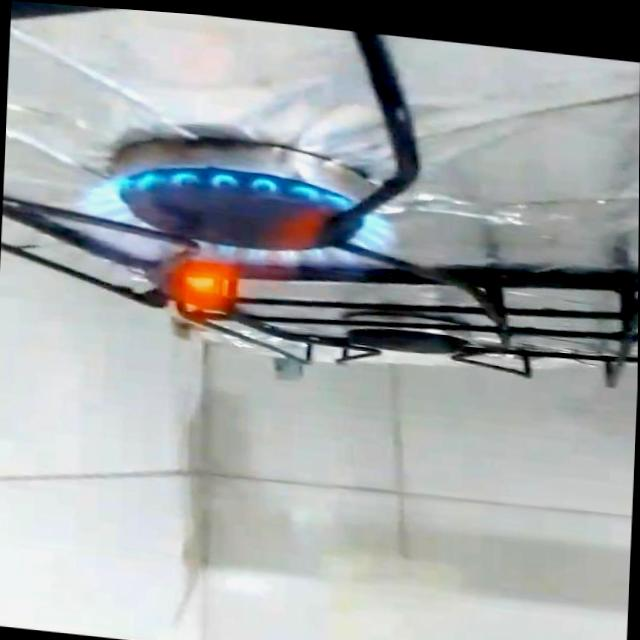Fire: (59, 147, 405, 344)
